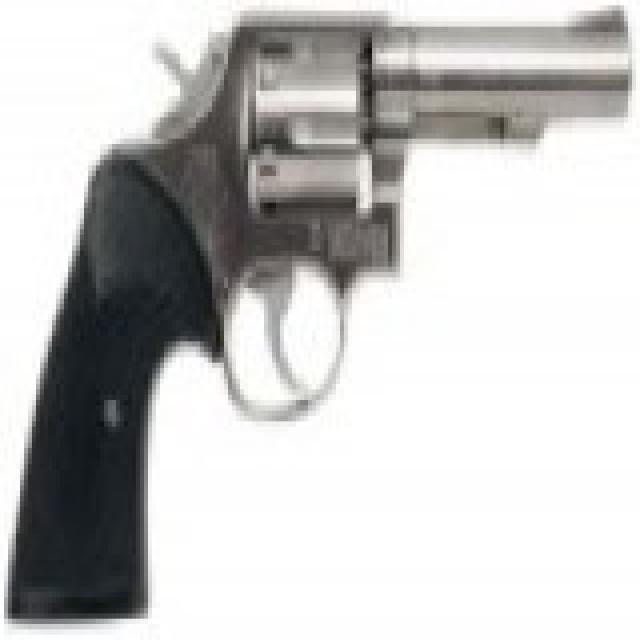gun-knife-thesis - v11 Yolov5 augmented: (4, 0, 624, 613)
